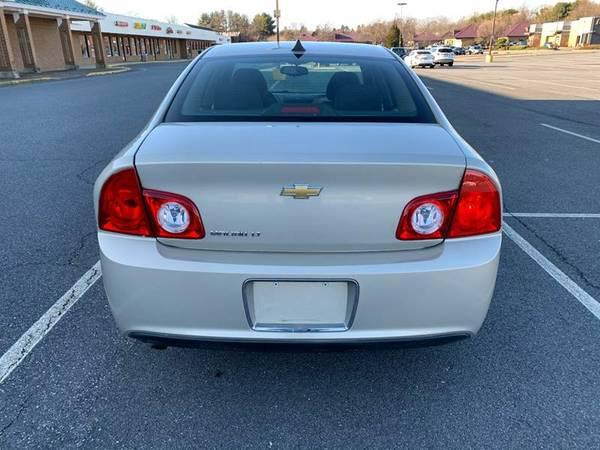Left_Taillight: (96, 167, 207, 243)
Rear_Bumper: (99, 230, 502, 354)
Rear_Windshield: (155, 50, 442, 125)
Right_Taillight: (394, 169, 502, 243)
Roof: (198, 36, 390, 53)
Tailgate: (108, 119, 486, 252)
